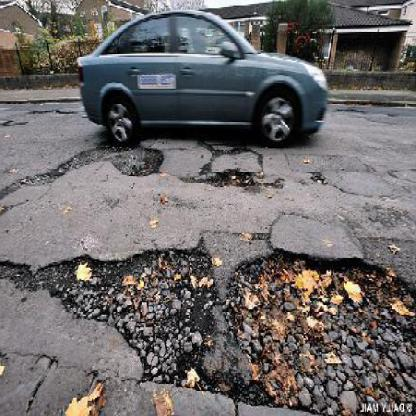pothole: (37, 236, 416, 416), (114, 144, 167, 178), (204, 168, 259, 190)
